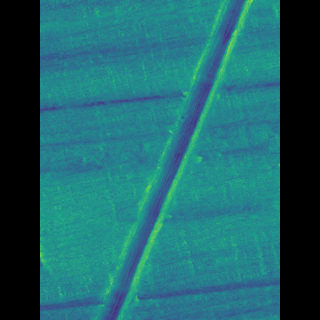Loch: (106, 0, 231, 320)
